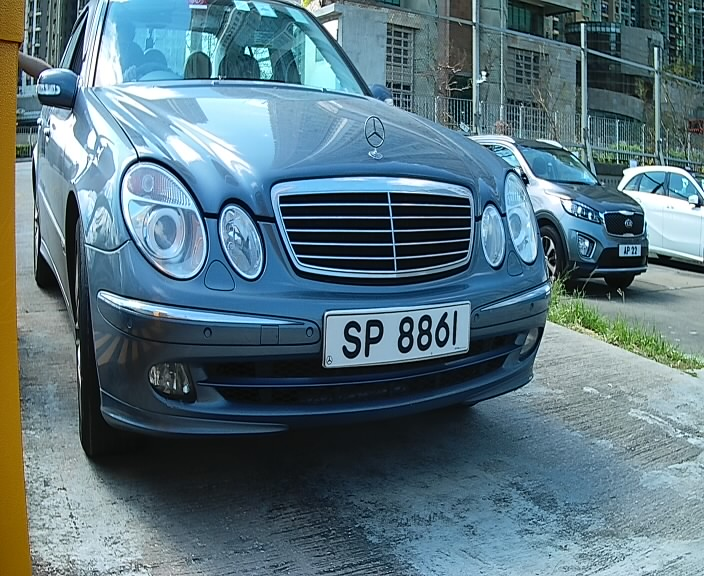Car: (10, 2, 561, 476)
License Plate: (316, 297, 480, 379)
